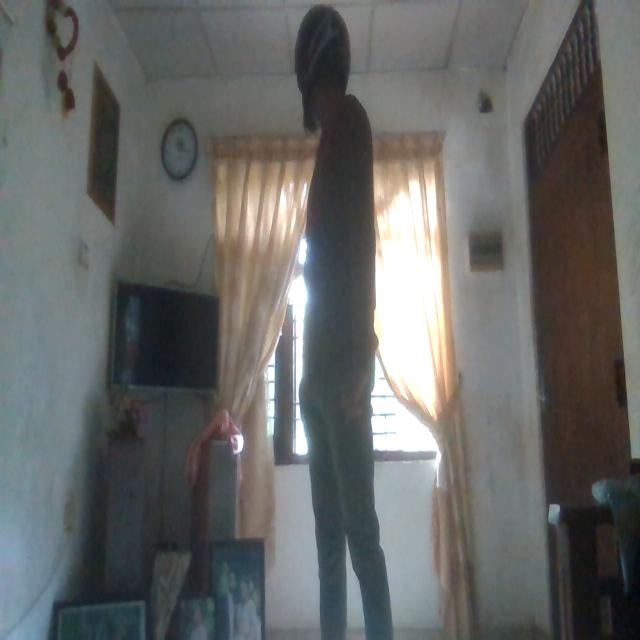Helmet_Wearer: (296, 5, 358, 135)
Person: (291, 2, 397, 640)
